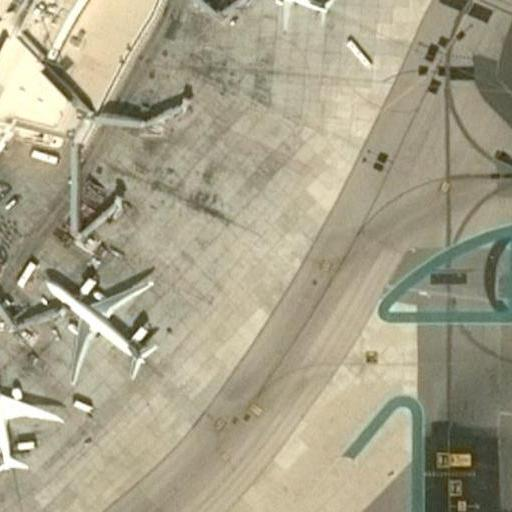Aircraft: (37, 270, 162, 391), (0, 347, 63, 481), (253, 0, 337, 33)
